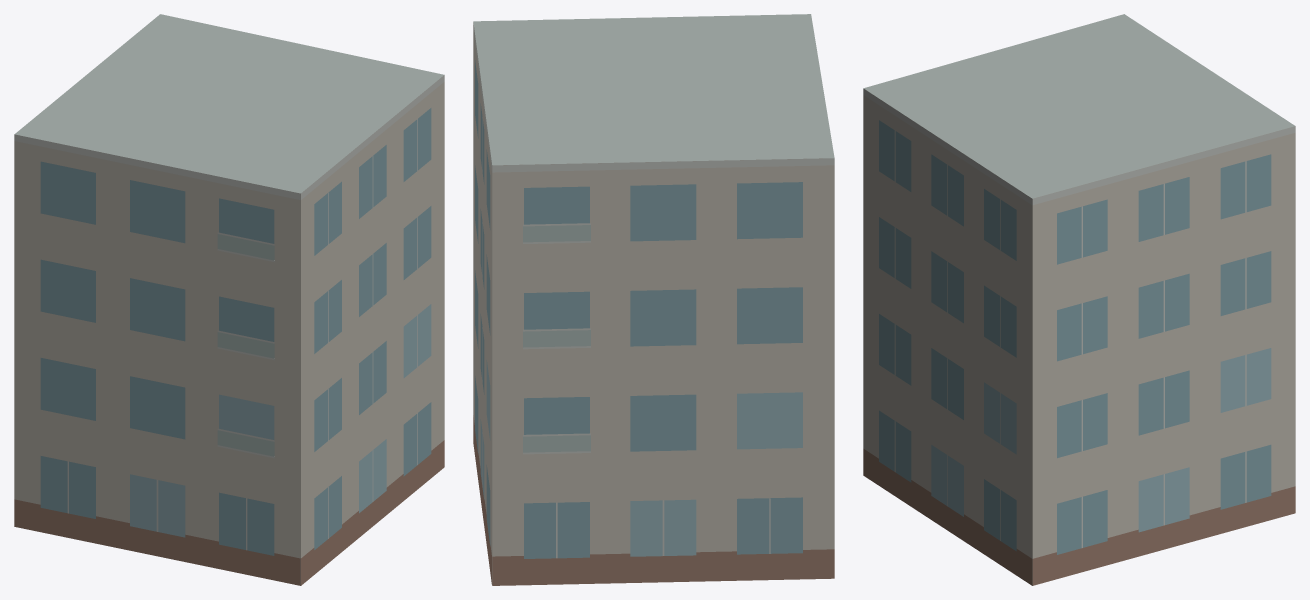
File: survey-upis-32920749.glb
3 renders of one model, left to right at view 1: azimuth 30°, elevation 25°; view 2: azimuth 150°, elevation 25°; view 3: azimuth 270°, elevation 25°, orthographic. The views are drawn at different scales.
Visible parts, largest first — view 1: survey-upis-32920749.tmp; view 2: survey-upis-32920749.tmp; view 3: survey-upis-32920749.tmp.
Part boxes in pixels (box(x1,y1,x2,y2)): survey-upis-32920749.tmp: box(14, 14, 444, 585); survey-upis-32920749.tmp: box(473, 14, 834, 585); survey-upis-32920749.tmp: box(863, 14, 1295, 585).
Size of the model in its own units: 14.61 by 14.27 by 14.45.
